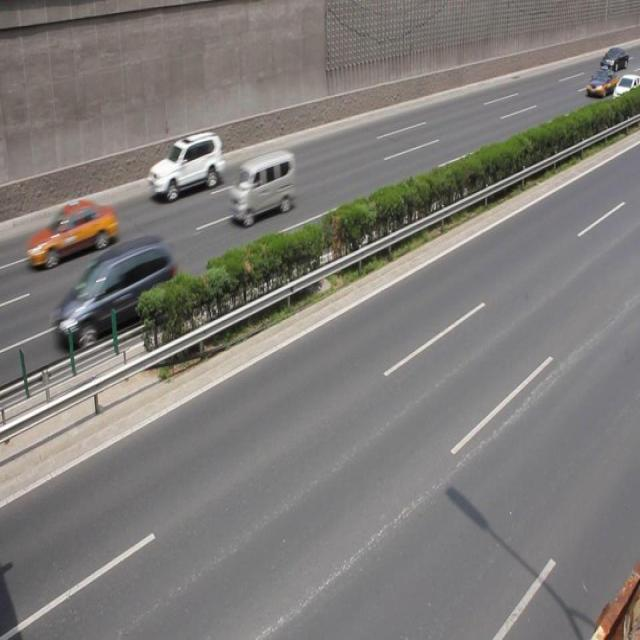car: (56, 236, 177, 360), (148, 130, 224, 203), (37, 200, 118, 267), (584, 65, 616, 98)
truck: (228, 151, 295, 225)
